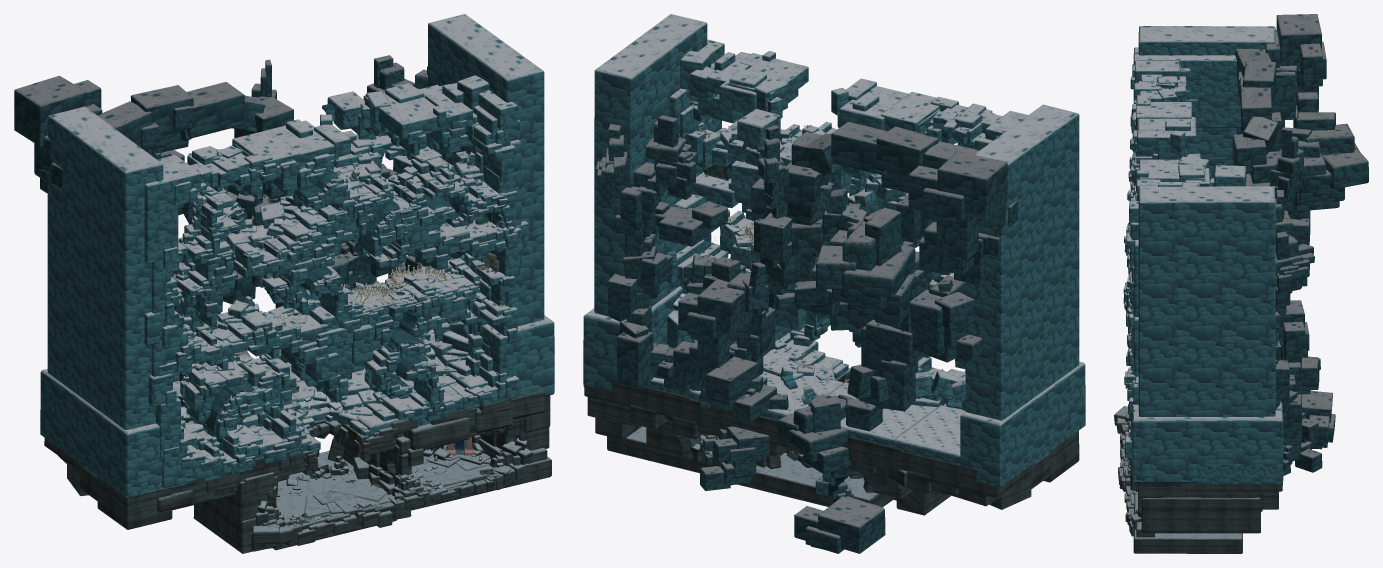
The picture shows the model from 3 angles, left to right: view 1: azimuth 30°, elevation 25°; view 2: azimuth 150°, elevation 25°; view 3: azimuth 270°, elevation 25°; orthographic projection. The views are drawn at different scales.
Bounding box in the file's own units: 150 × 139 × 88.2.
Materials: 29 (29 with a texture image).
